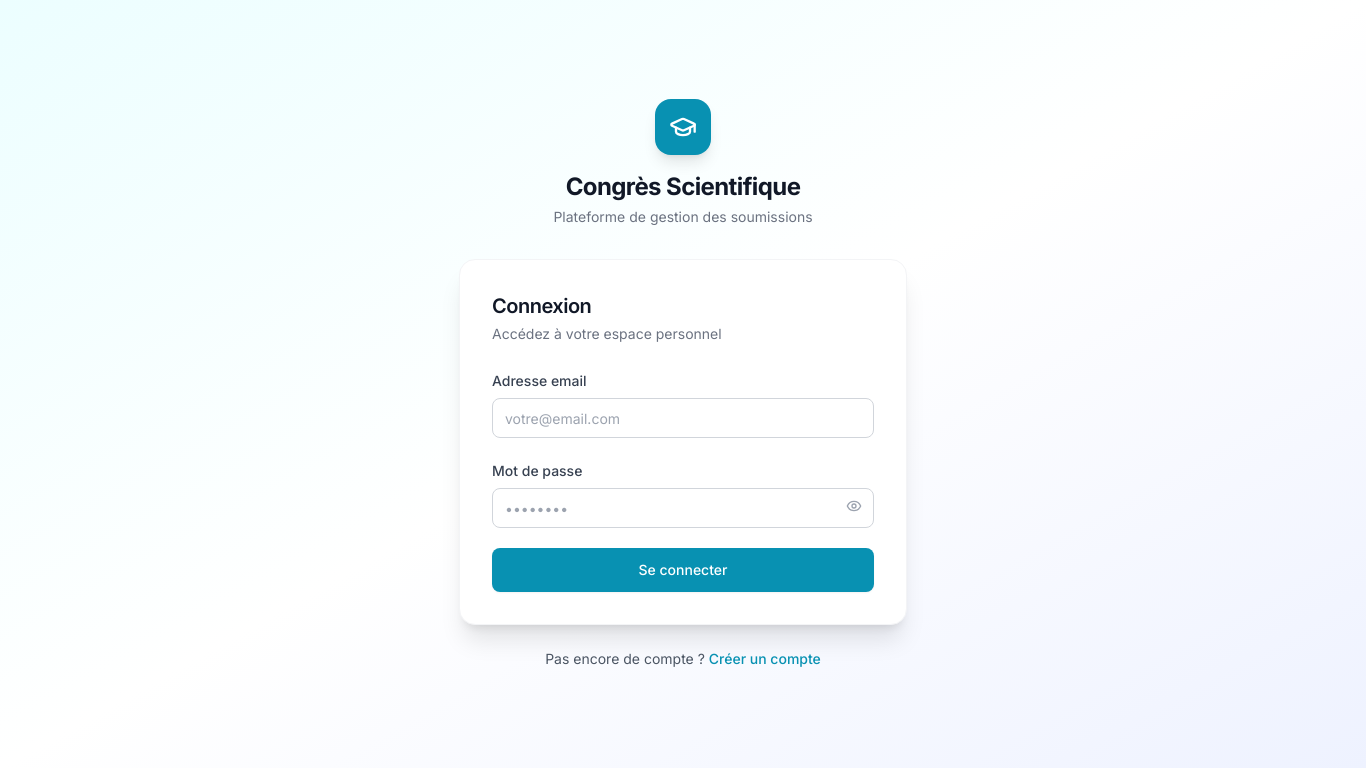
LoginPage › shows server error on login failure
In the field labelled "Adresse email": point(683, 418) [492,398,874,438], type "wrong@example.com"
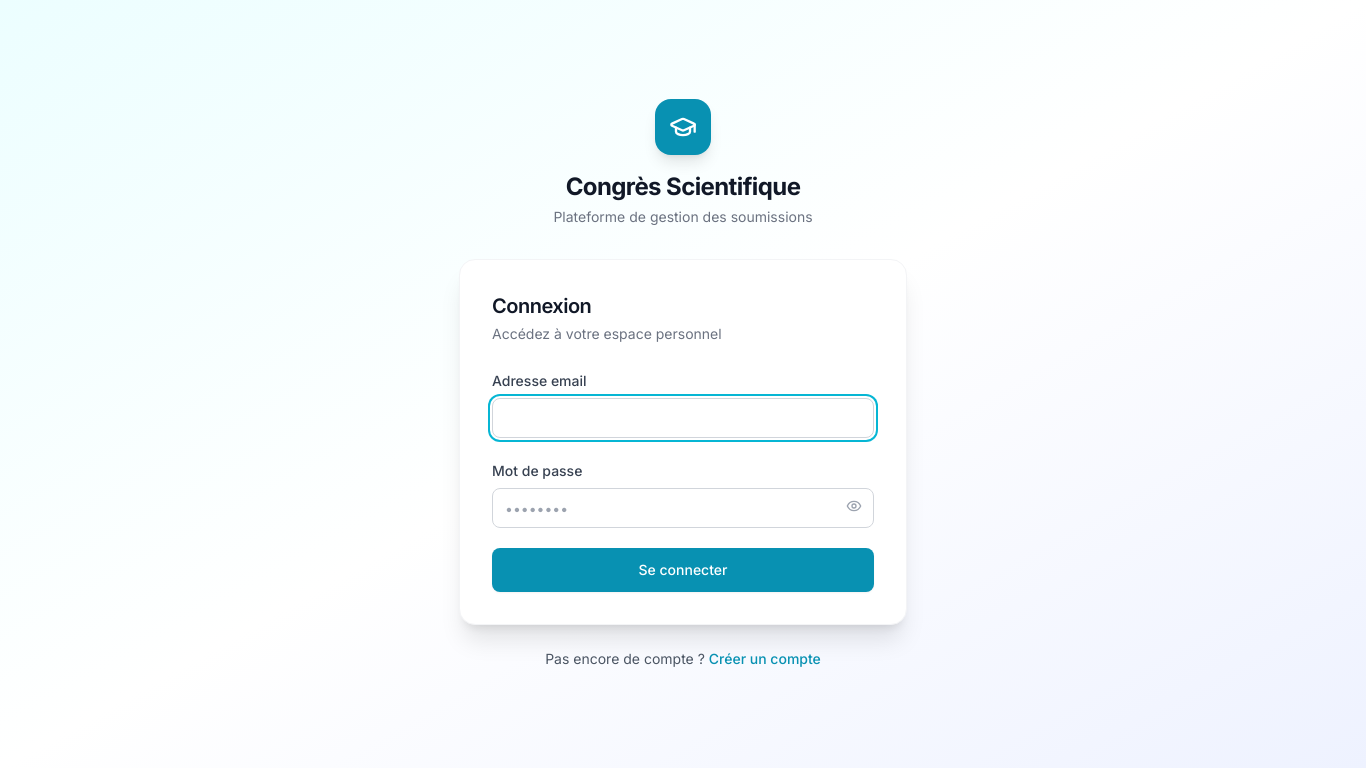
In the password field labelled "Mot de passe": point(683, 508) [492,488,874,528], type "wrong"
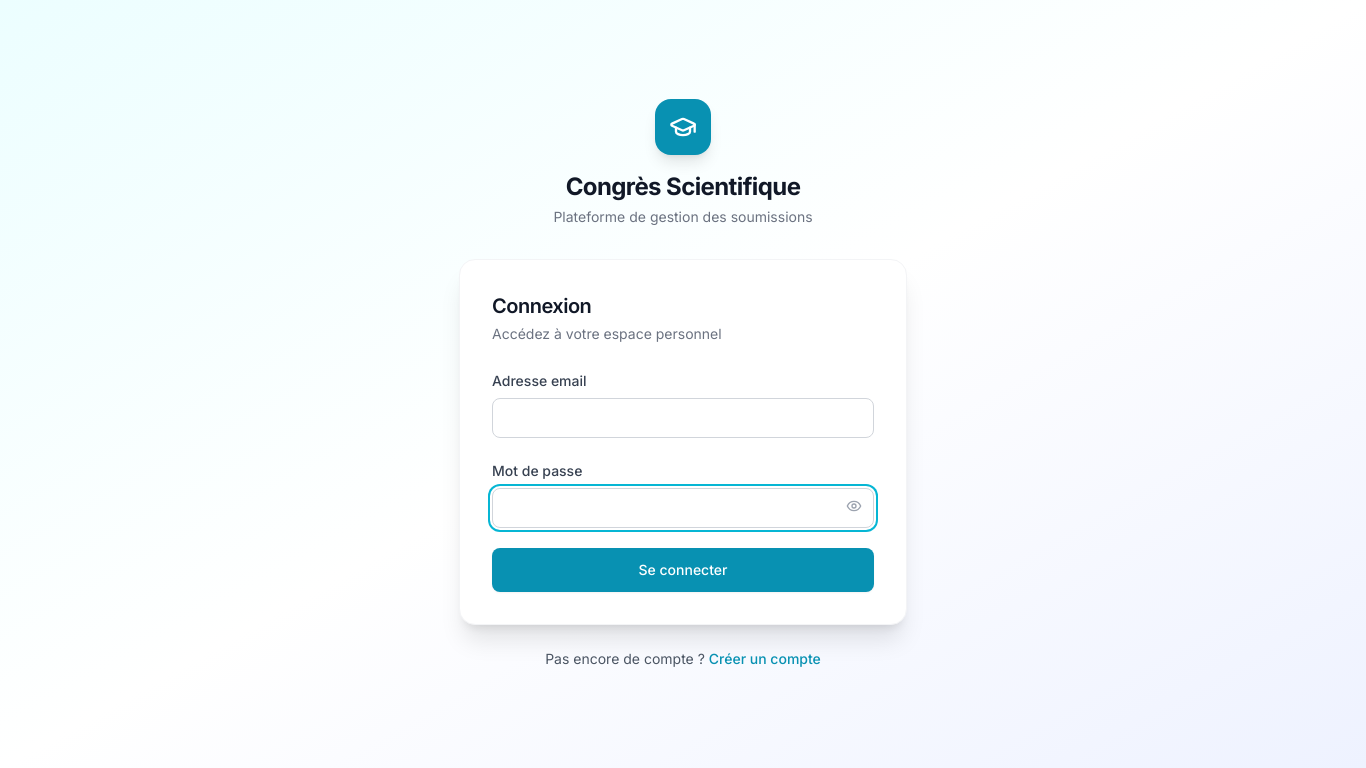
Click the button "Se connecter": point(683, 570) [492,548,874,592]
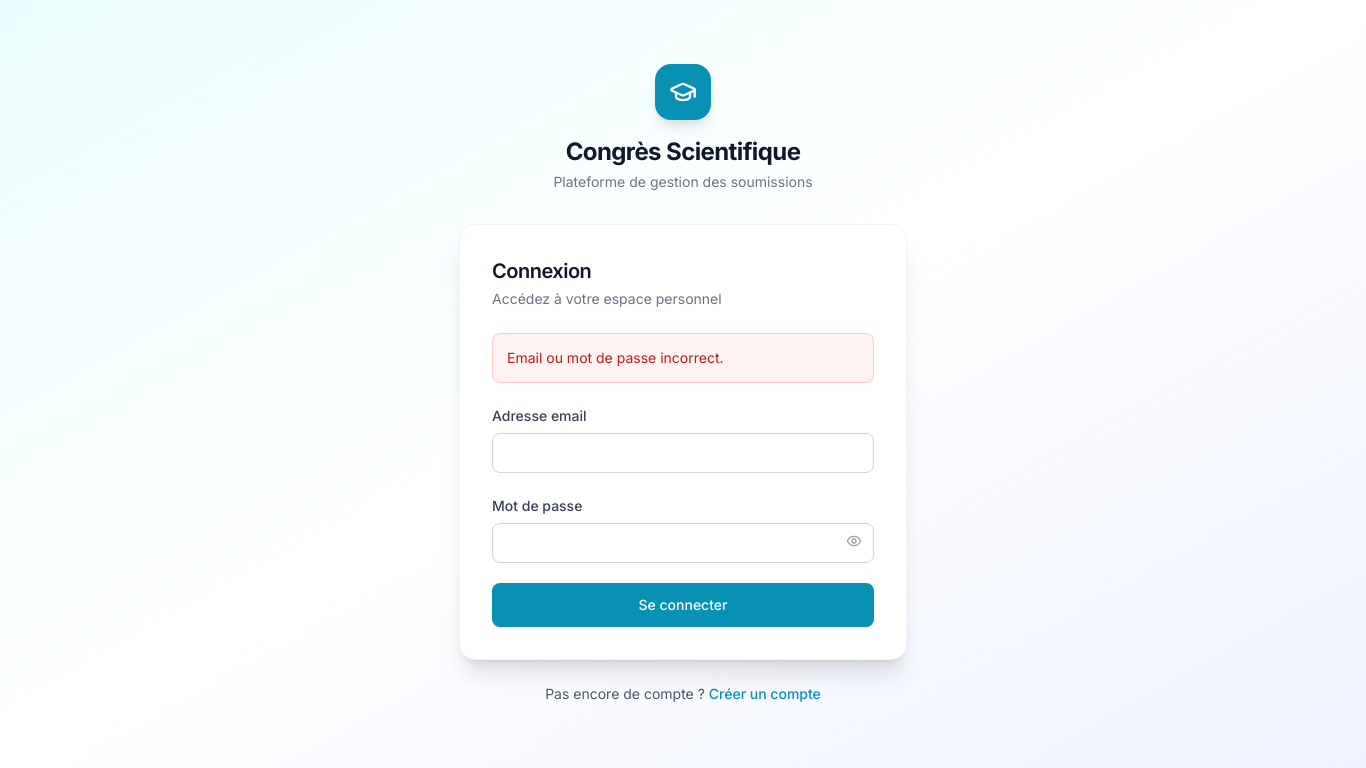
Now the text "Email ou mot de passe incorrect." is shown, box [492,333,874,383]
